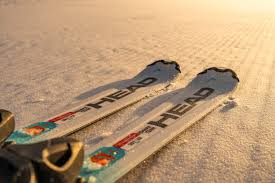skis: (1, 60, 240, 183)
